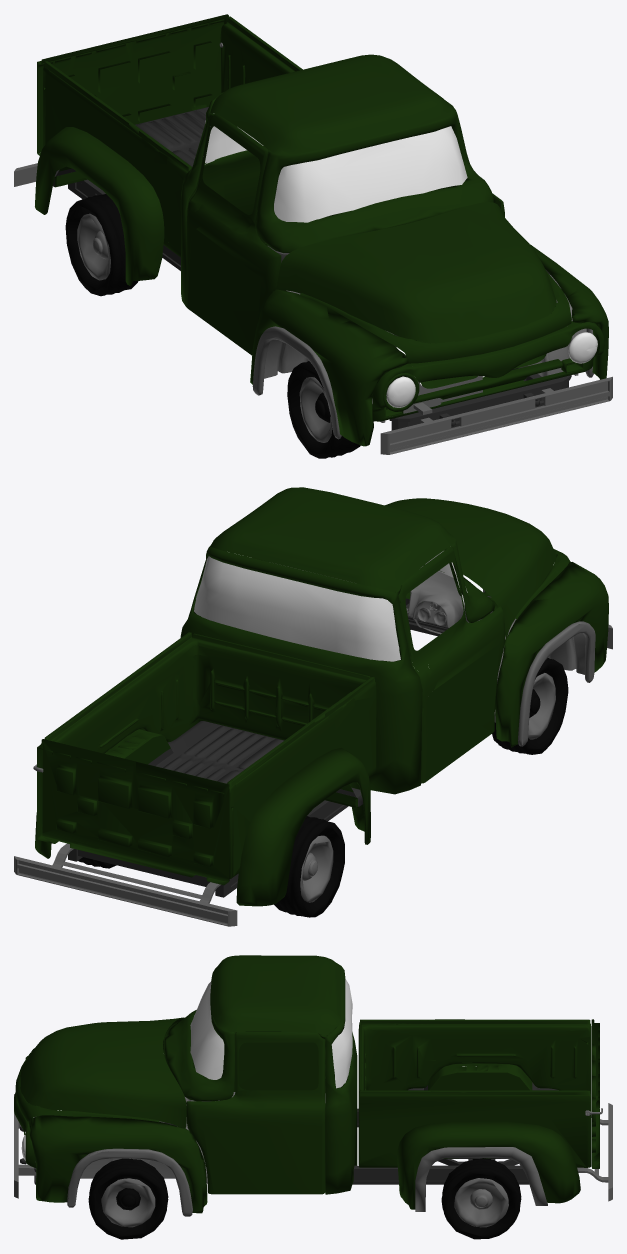
File: pickup-truck-e22f5c.glb
3 renders of one model, top to bottom at view 1: azimuth 30°, elevation 25°; view 2: azimuth 150°, elevation 25°; view 3: azimuth 270°, elevation 25°, orthographic. The views are drawn at different scales.
Visible parts, largest first — view 1: body, wheel-back-right, wheel-front-right; view 2: body, wheel-back-right, wheel-front-right; view 3: body, wheel-front-left, wheel-back-left.
Boxes of the visible parts, x1,y1,x2,y2 form: body: [14, 14, 612, 454]; wheel-back-right: [65, 194, 138, 296]; wheel-front-right: [287, 361, 360, 458]; body: [14, 487, 612, 926]; wheel-back-right: [274, 816, 344, 917]; wheel-front-right: [492, 658, 568, 754]; body: [14, 955, 612, 1216]; wheel-front-left: [88, 1158, 168, 1239]; wheel-back-left: [441, 1158, 521, 1239].
Bounding box in the file's own units: 2.05 × 1.96 × 4.96.
